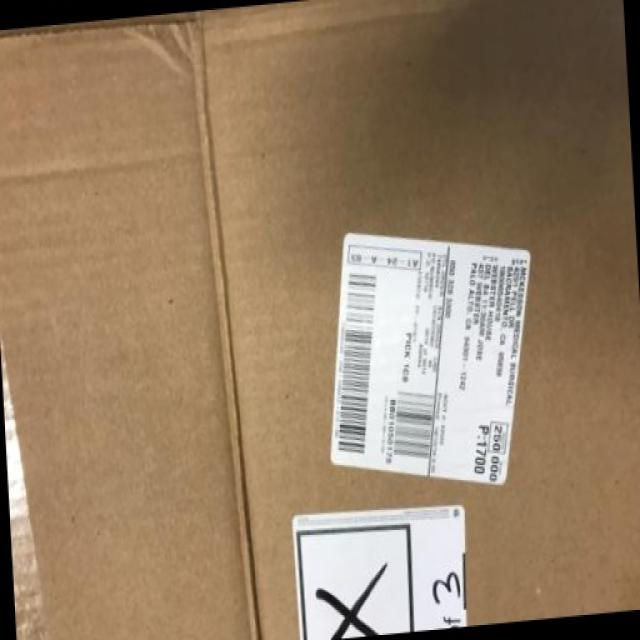carton: (55, 0, 550, 640)
